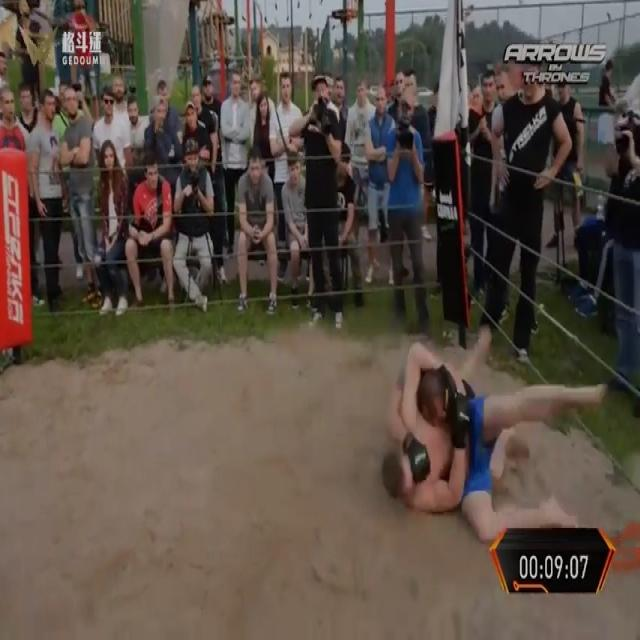fight: (378, 338, 610, 545)
non-fight: (473, 57, 582, 364), (292, 69, 348, 324), (382, 82, 431, 334), (25, 82, 66, 310), (234, 140, 283, 316), (171, 130, 216, 310), (124, 151, 172, 312)
